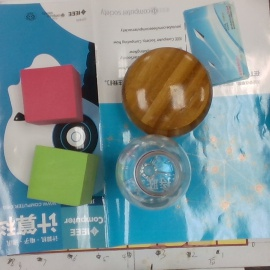card: (183, 2, 249, 83)
chess: (122, 46, 211, 137)
cup: (115, 134, 190, 209)
